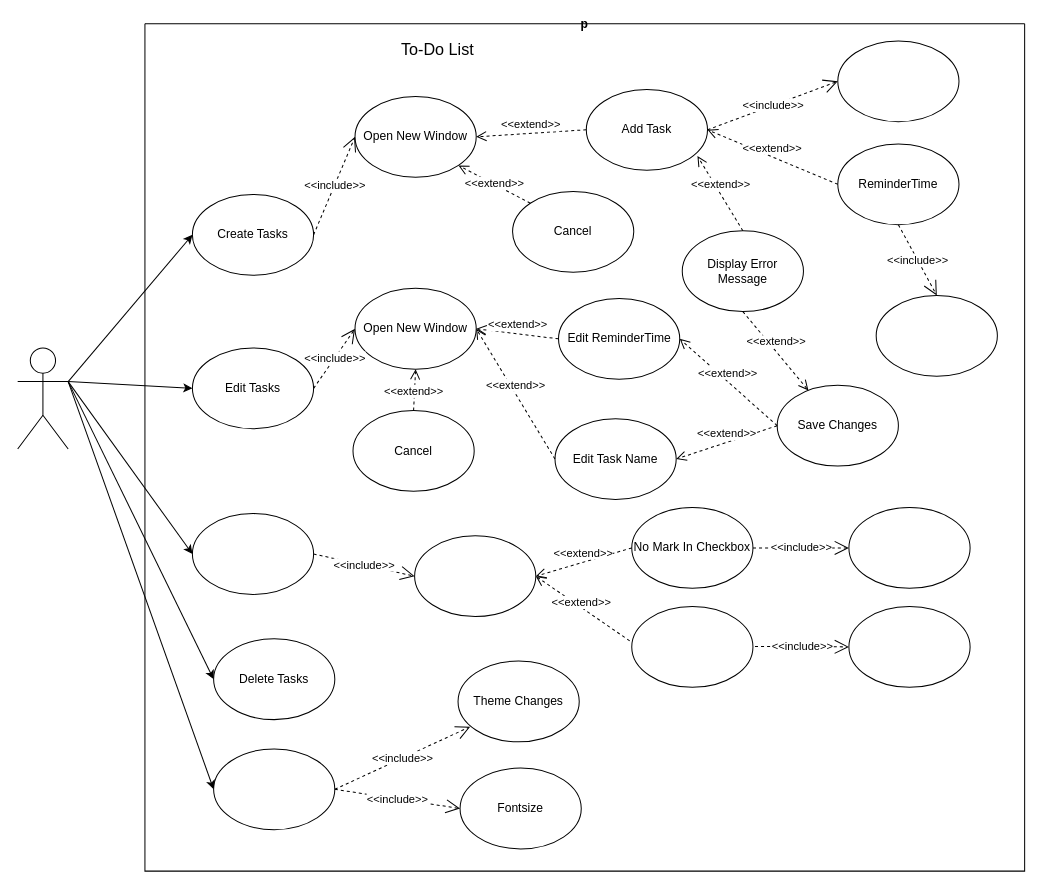
The diagram is 1042 pixels wide and 889 high, and some of its shapes have lost their labels. Each missing label, with the centre of its shape:
Actor: [42,398]
Complete Tasklist: [909,646]
Incomplete Tasklist: [909,547]
Mark as Complete/Incomplete: [252,553]
Mark In Checkbox: [692,646]
Notification: [936,335]
Settings: [274,789]
Task Checkbox: [475,576]
Task Name: [898,81]
